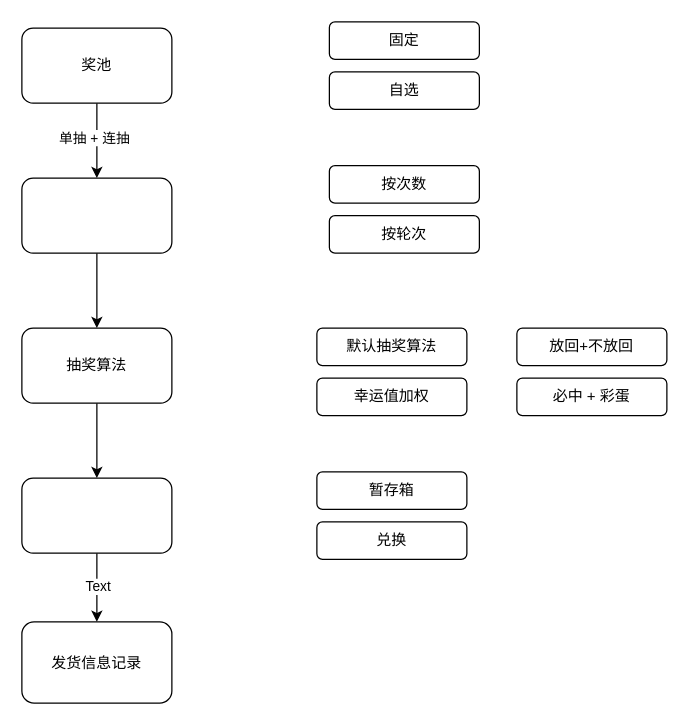
Some shapes in this 689 by 725 pixel diagram are drawn without their labels. The centre of each missing label's shape, as x and y in pixels:
"中奖信息记录" goes at [96,515].
"资格" goes at [96,215].
